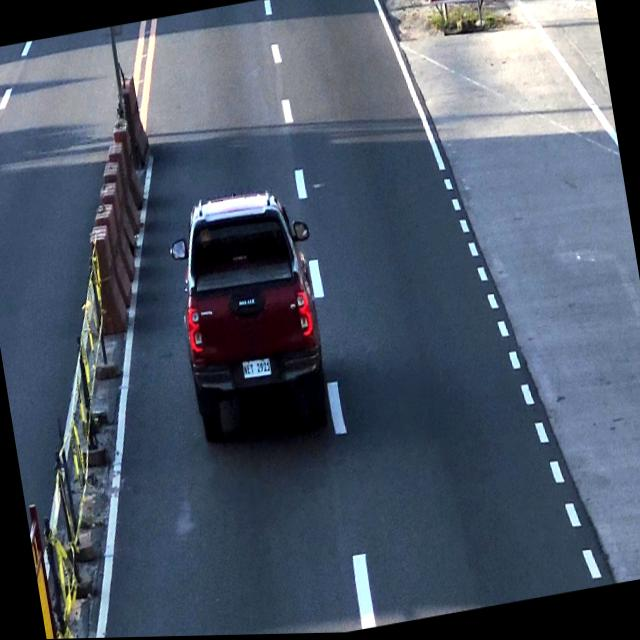Car: (160, 184, 340, 450)
License-Plate: (238, 354, 274, 385)
